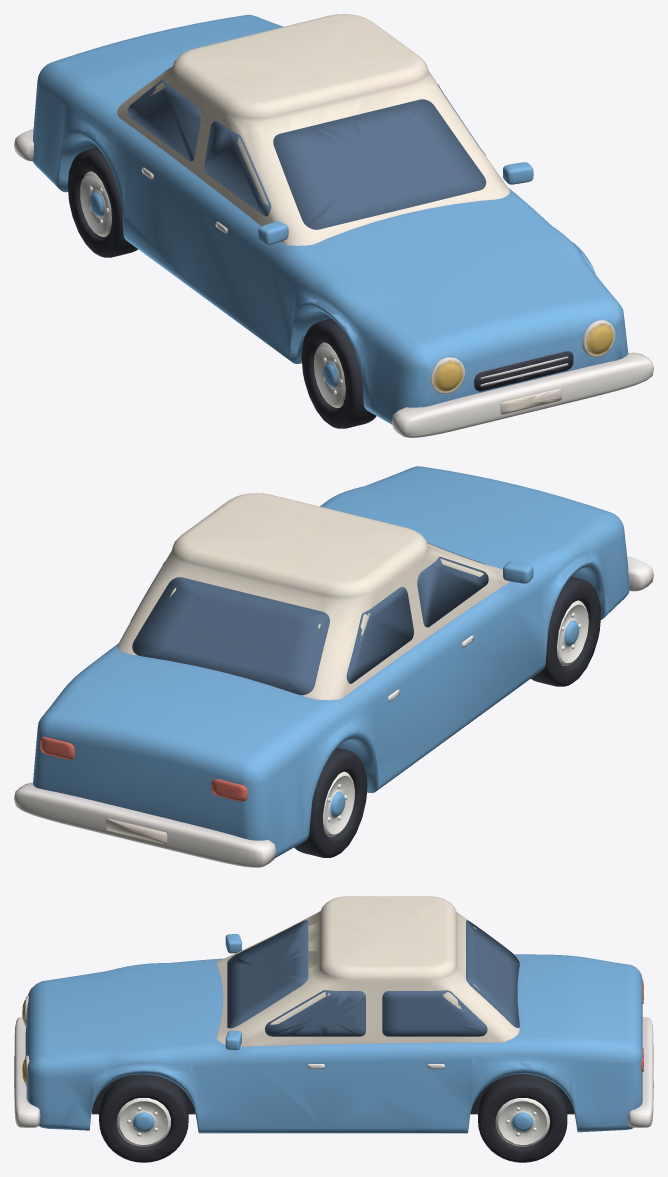
Rendered from veh_sedan.glb.
The picture shows the model from 3 angles, top to bottom: view 1: azimuth 30°, elevation 25°; view 2: azimuth 150°, elevation 25°; view 3: azimuth 270°, elevation 25°; orthographic projection. The views are drawn at different scales.
Visible parts, largest first — view 1: sedan_body, sedan_windows, sedan_wheel_fl; view 2: sedan_body, sedan_windows, sedan_wheel_fl; view 3: sedan_body, sedan_windows, sedan_wheel_fl.
Part boxes in pixels (left/top/right/bottom): sedan_body: left=14, top=14, right=653, bottom=437; sedan_windows: left=128, top=69, right=486, bottom=229; sedan_wheel_fl: left=67, top=147, right=376, bottom=428; sedan_body: left=14, top=466, right=653, bottom=867; sedan_windows: left=130, top=542, right=488, bottom=695; sedan_wheel_fl: left=294, top=576, right=600, bottom=857; sedan_body: left=14, top=896, right=653, bottom=1133; sedan_windows: left=227, top=920, right=519, bottom=1036; sedan_wheel_fl: left=99, top=1074, right=567, bottom=1162.
Size of the model in its own units: 1.86 by 1.49 by 4.7.
Materials: 5 (1 with a texture image).
